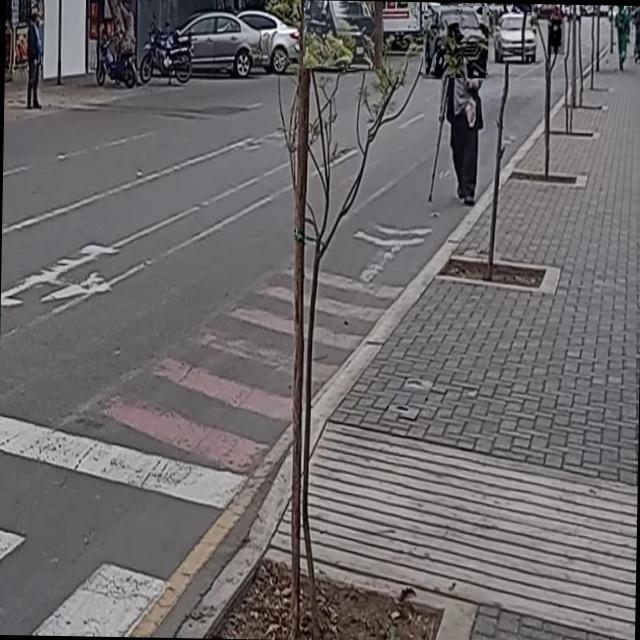car: (302, 0, 382, 69), (422, 5, 488, 78), (494, 11, 536, 62)
motorcycle: (546, 18, 564, 54)
